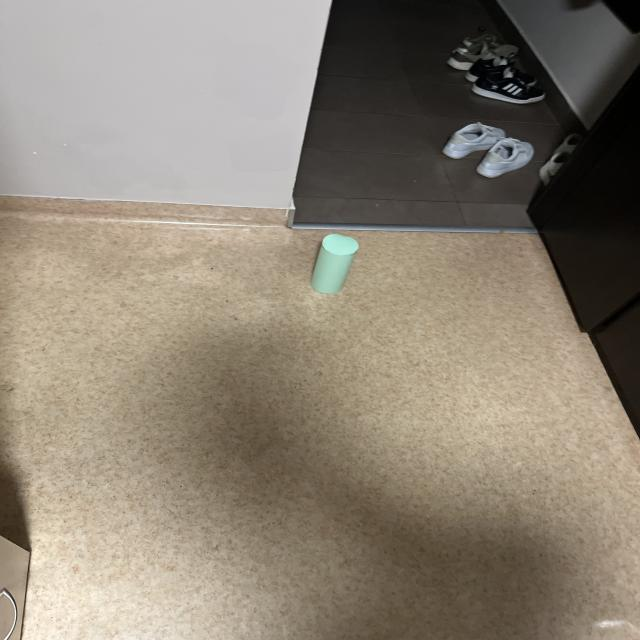meta: (310, 234, 358, 294)
